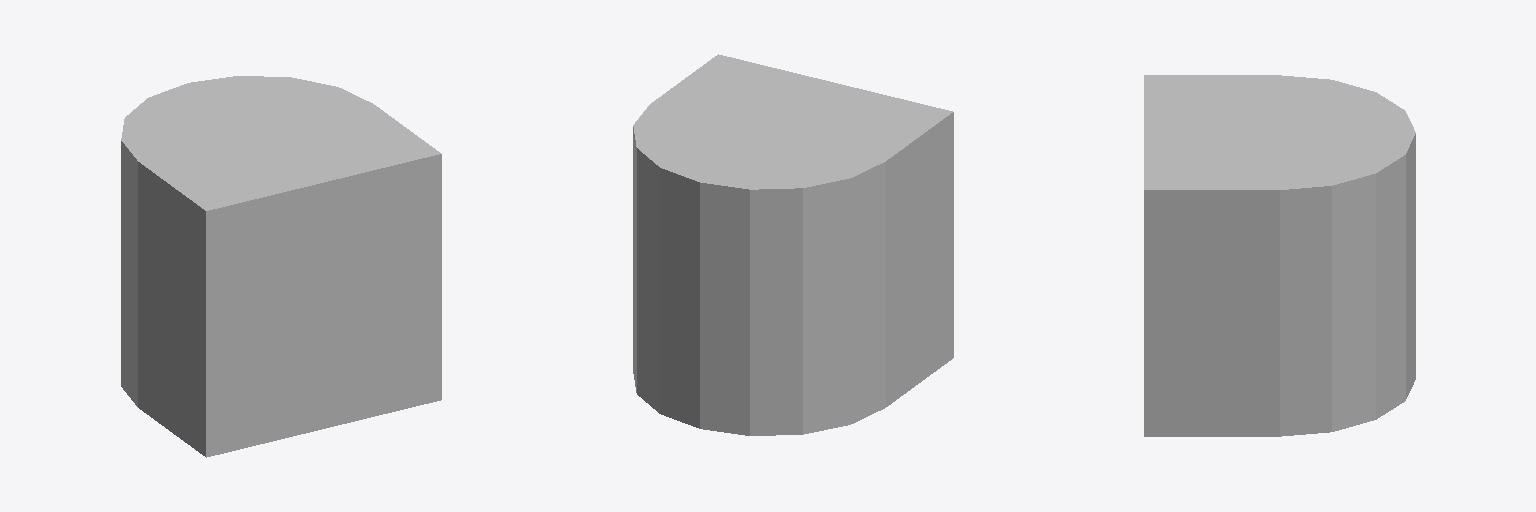
Rendered from col_round_three_faces_half.obj.
3 renders of one model, left to right at view 1: azimuth 30°, elevation 25°; view 2: azimuth 150°, elevation 25°; view 3: azimuth 270°, elevation 25°, orthographic.
Parts seen in each view (by area): view 1: Box, Cylinder; view 2: Cylinder, Box; view 3: Box, Cylinder.
Part boxes in pixels (x1,y1,x2,y2): Box: (138,104,441,457); Cylinder: (121,76,372,406); Cylinder: (633,104,885,435); Box: (651,54,953,406); Box: (1144,75,1279,436); Cylinder: (1280,75,1415,436).
Size of the model in its own units: 1 by 1 by 1.